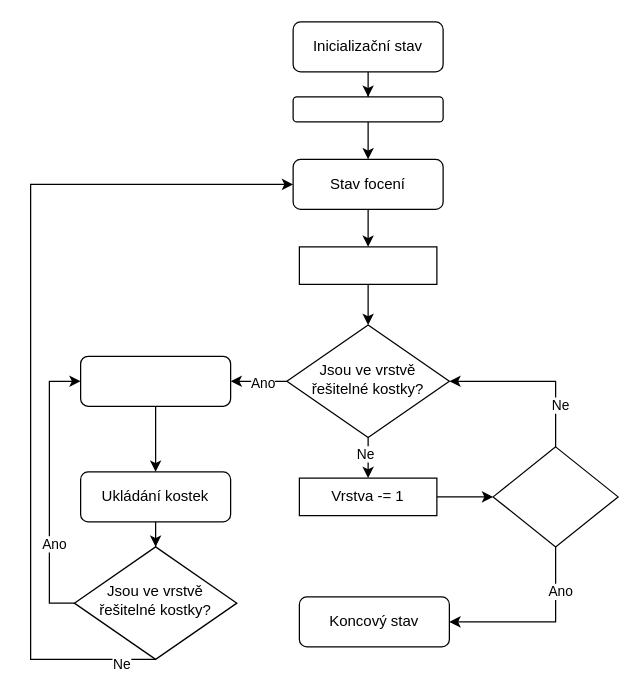
Image size: 640x694. Some labels were removed from this diagram. Each missing label, with the centre of its shape:
"Stav detekce krabic" belongs at point (367, 109).
"Určení pořadí kostek ve vrstvě" belongs at point (155, 380).
"Vrstva = max(n)" belongs at point (367, 265).
"Vrstva > -1" belongs at point (555, 496).
